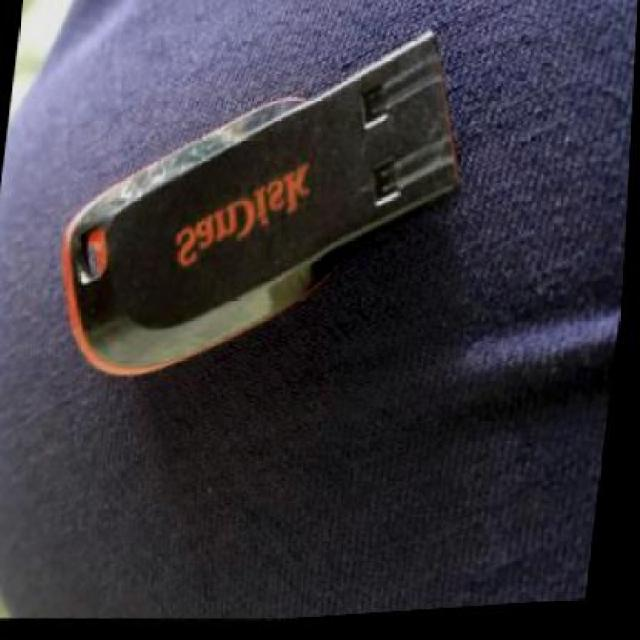Flashdisk: (37, 1, 515, 433)
